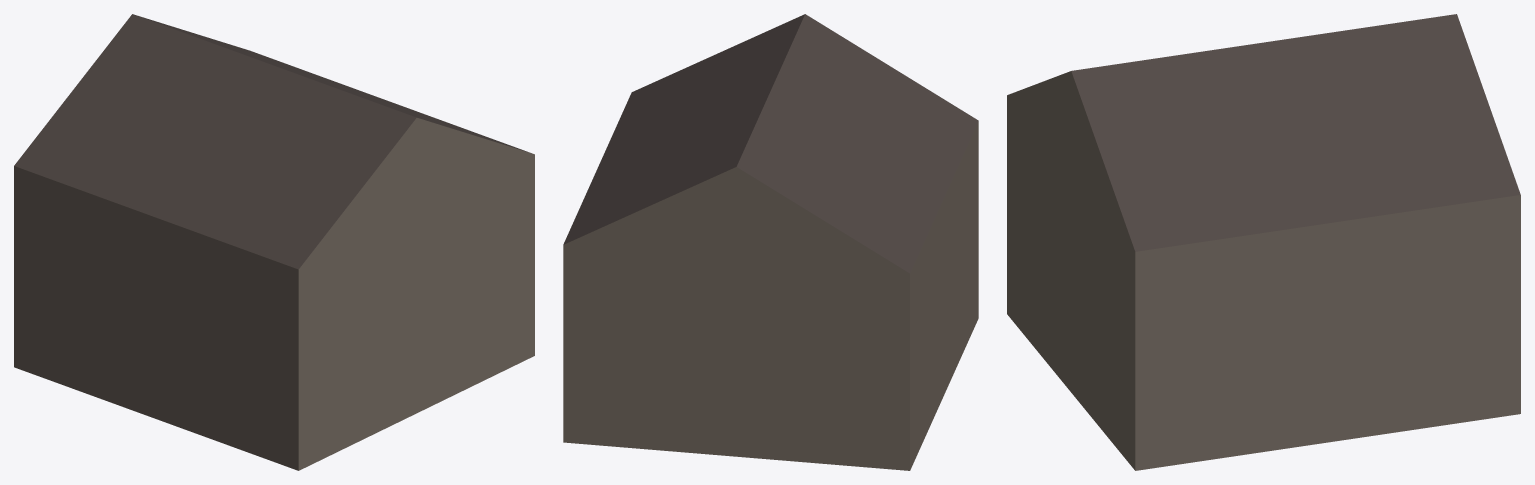
3 views of the same model, side by side, from view 1: azimuth 30°, elevation 25°; view 2: azimuth 150°, elevation 25°; view 3: azimuth 270°, elevation 25° (orthographic). The views are drawn at different scales.
Visible parts, largest first — view 1: HP-w859082510; view 2: HP-w859082510; view 3: HP-w859082510.
Part boxes in pixels (<box>): HP-w859082510: <box>14,14,534,470</box>; HP-w859082510: <box>563,14,978,470</box>; HP-w859082510: <box>1007,14,1520,470</box>.
Size of the model in its own units: 12.55 by 8.81 by 12.75.
